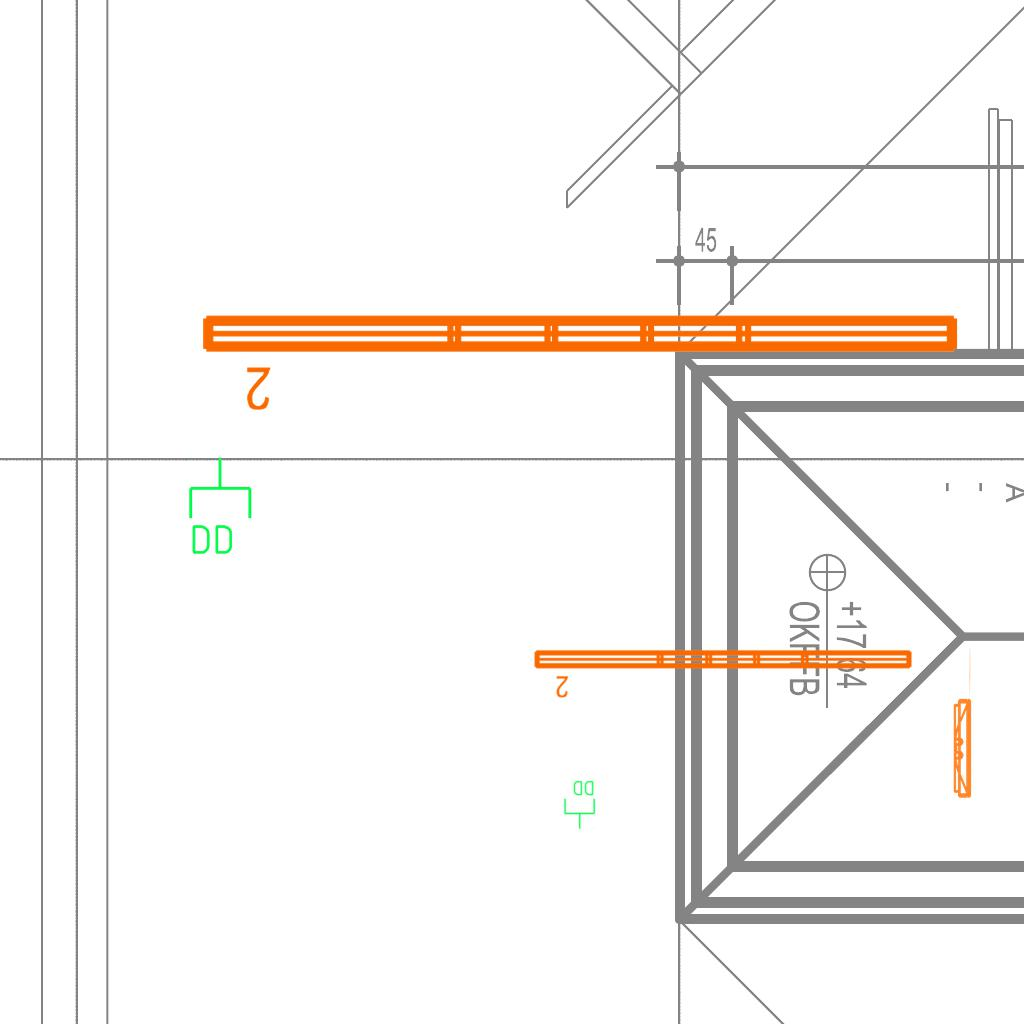Ambulanz_Pendelleuchte_LED: (194, 303, 968, 415), (530, 644, 917, 700)
Datenanschluss_zweifach: (185, 455, 254, 558), (563, 779, 597, 830)
Sicherheitsleuchte_Wandeinbau: (949, 644, 974, 803)
